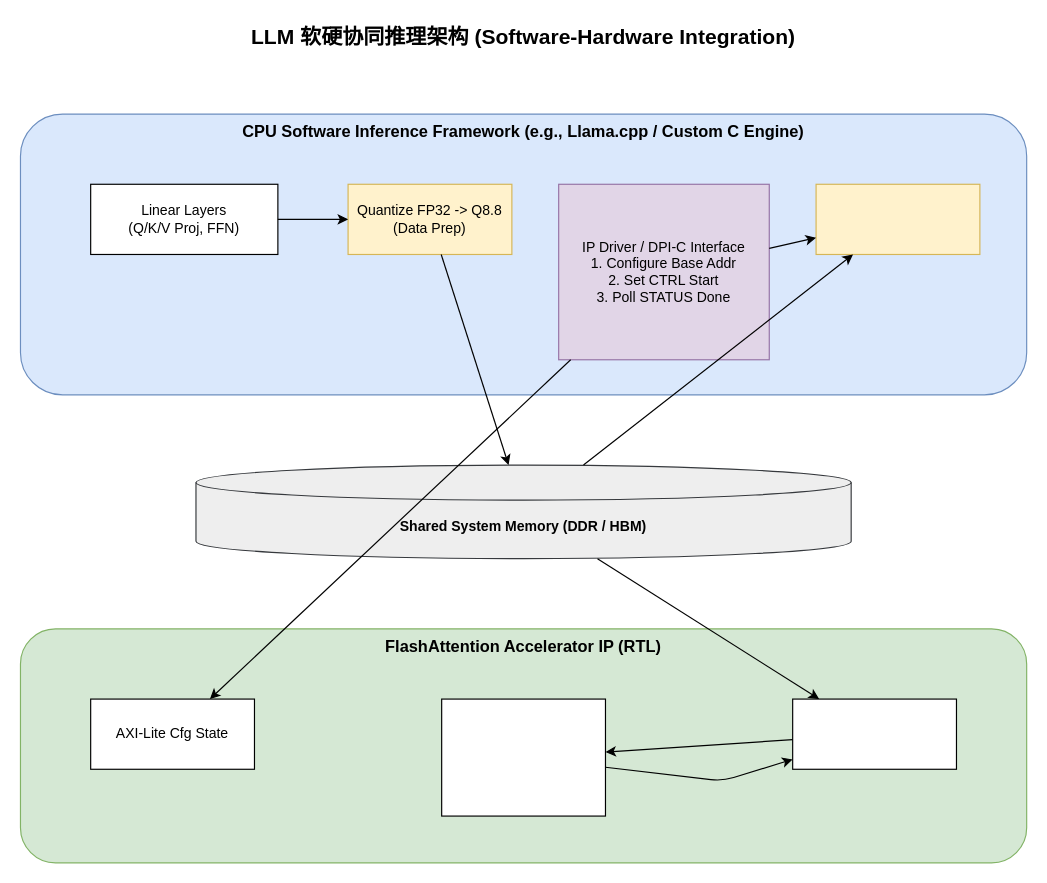
Some shapes in this 1047 by 883 pixel diagram are drawn without their labels. Each missing label, with the centre of its shape:
"AXI4 DMA Engine" belongs at (x=874, y=733).
"Dequantize Q8.8->FP32 + Add to Residual" belongs at (x=897, y=218).
"SDPA Core (Online Softmax, Tiling)" belongs at (x=523, y=757).
